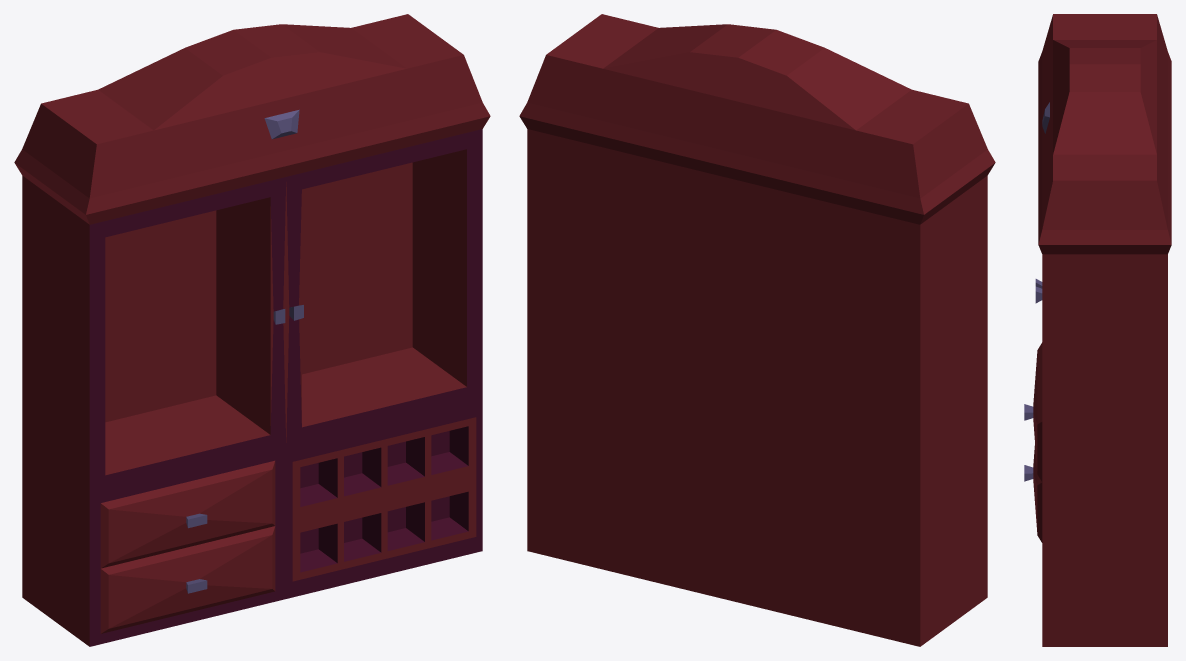
Rendered from Armário.fbx.
The picture shows the model from 3 angles, left to right: view 1: azimuth 30°, elevation 25°; view 2: azimuth 150°, elevation 25°; view 3: azimuth 270°, elevation 25°; orthographic projection. The views are drawn at different scales.
Visible parts, largest first — view 1: Armario; view 2: Armario; view 3: Armario.
Boxes of the visible parts, x1,y1,x2,y2 form: Armario: (14, 14, 490, 646); Armario: (519, 14, 995, 646); Armario: (1024, 14, 1171, 646).
Bounding box in the file's own units: 4.37 × 5.47 × 1.48.
